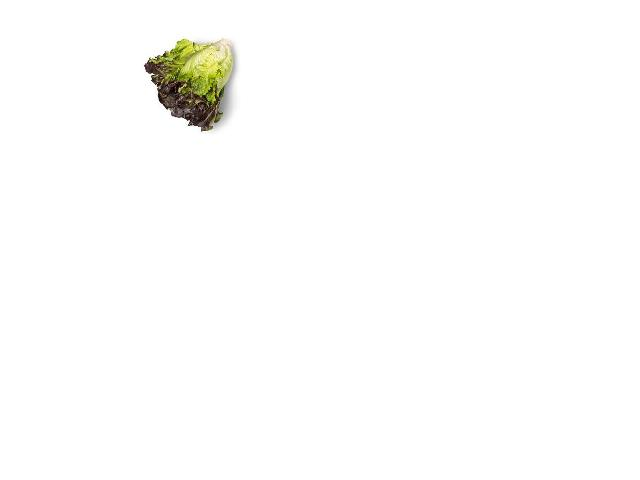lettuce: (146, 35, 233, 137)
